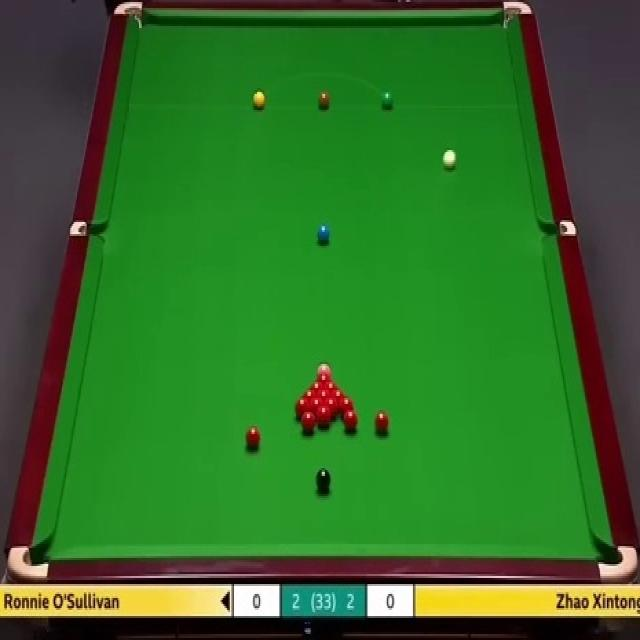black-ball: (315, 466, 331, 493)
blue-ball: (318, 224, 331, 247)
brown-ball: (318, 93, 330, 110)
green-ball: (382, 90, 393, 110)
pink-ball: (316, 359, 332, 376)
red-ball: (244, 424, 263, 449), (375, 409, 390, 437), (299, 412, 315, 435), (316, 405, 331, 429), (338, 397, 355, 417), (295, 397, 310, 418), (344, 409, 359, 430), (325, 398, 338, 416), (309, 397, 324, 412), (322, 382, 340, 392), (331, 389, 347, 400), (315, 372, 332, 382), (316, 390, 332, 400), (307, 382, 323, 391), (303, 390, 316, 401)
white-ball: (442, 147, 459, 172)
yellow-ball: (252, 89, 267, 110)
